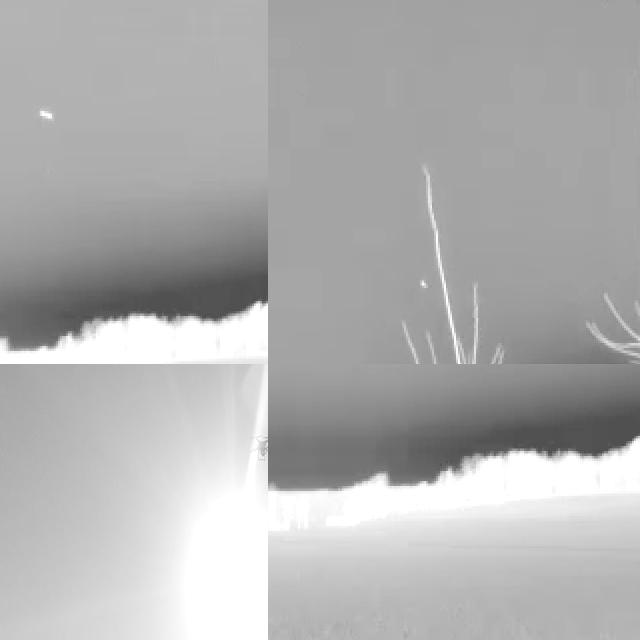0: (411, 274, 431, 297)
1: (31, 104, 63, 134)
drone: (249, 430, 268, 462)
